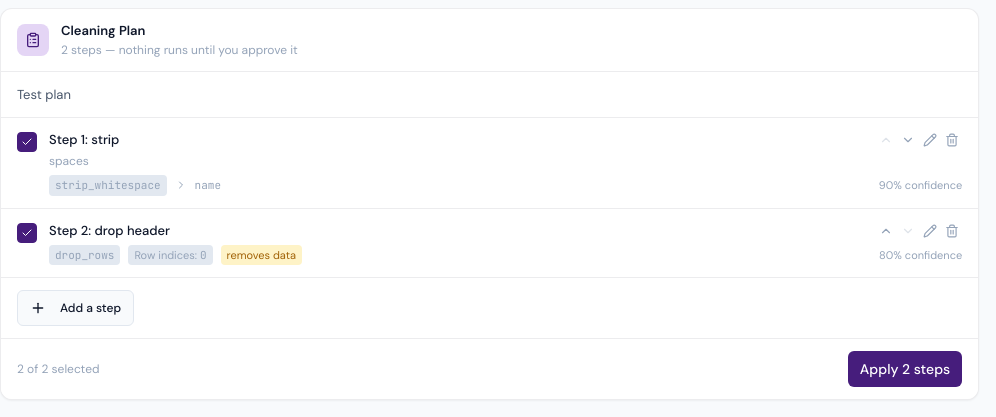
Test: CleaningPlanCard — reviewing › toggling a step off updates the selected count and Apply label
The width and height of the screenshot is (996, 417).
Expected: the button "Add a step" is enabled, x1=17 y1=290 x2=134 y2=326
Click the button named "this step" next to "Step 2: drop header" at (27, 233), box x1=17 y1=223 x2=37 y2=243
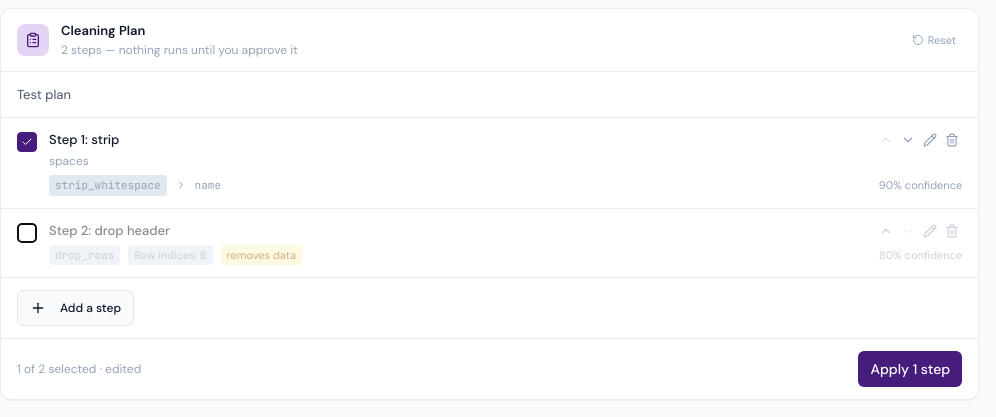
Expected: the button "Apply 1 step" is enabled, x1=858 y1=351 x2=962 y2=387
Now the text "1 of 2 selected · edited" is shown, box x1=17 y1=360 x2=141 y2=378
